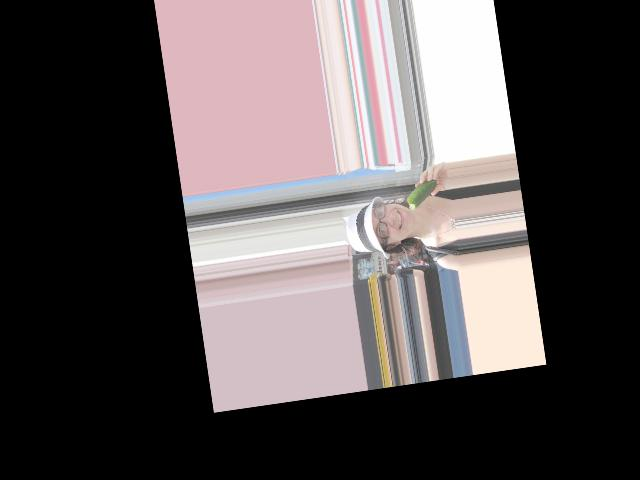cucumber: (404, 178, 440, 210)
